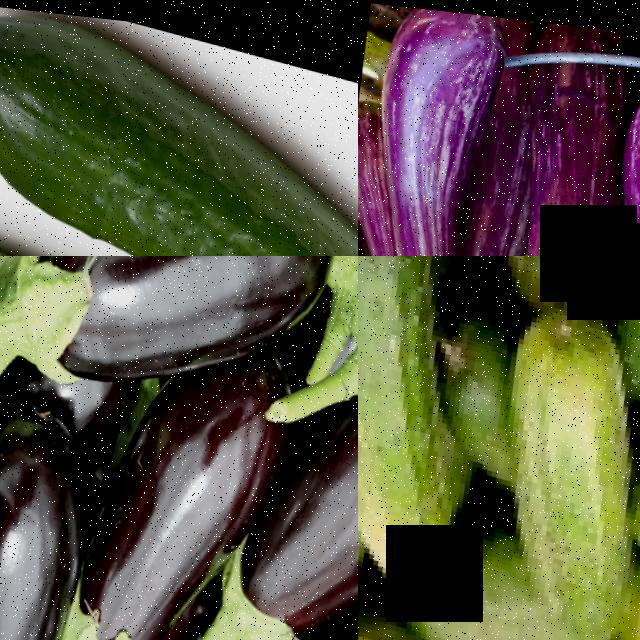cucumber: (0, 0, 358, 256), (471, 286, 640, 640), (358, 380, 471, 593), (358, 256, 469, 468)
eggplant: (45, 353, 280, 640), (0, 256, 340, 433), (358, 0, 525, 256), (227, 373, 358, 640), (486, 38, 640, 256), (0, 396, 105, 640), (582, 64, 640, 256)
